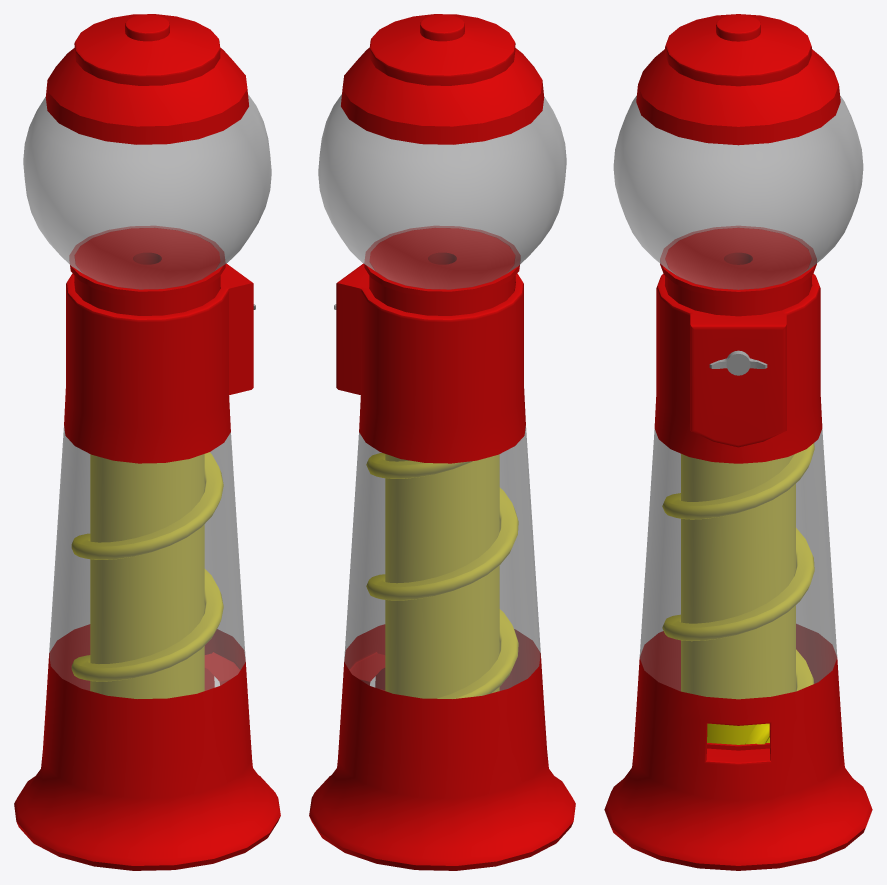
File: WW_GumballMachine_Env.fbx
3 views of the same model, side by side, from view 1: azimuth 30°, elevation 25°; view 2: azimuth 150°, elevation 25°; view 3: azimuth 270°, elevation 25° (orthographic).
Parts seen in each view (by area): view 1: GumballBase_GEO, GumBallTop_GEO, GumballHelixHolder_GEO, GumballmachineLid_GEO, GumballInnerHelix_GEO, GumballmachineBaselid_GEO; view 2: GumballBase_GEO, GumBallTop_GEO, GumballHelixHolder_GEO, GumballmachineLid_GEO, GumballmachineBaselid_GEO, GumballInnerHelix_GEO; view 3: GumballBase_GEO, GumBallTop_GEO, GumballHelixHolder_GEO, GumballmachineLid_GEO, GumballInnerHelix_GEO, GumballmachineBaselid_GEO, GumballTurner_GEO.
Boxes of the visible parts, left/top/right/bottom form: GumballBase_GEO: left=14, top=263, right=280, bottom=870; GumBallTop_GEO: left=23, top=94, right=271, bottom=315; GumballHelixHolder_GEO: left=90, top=454, right=204, bottom=698; GumballmachineLid_GEO: left=45, top=14, right=248, bottom=144; GumballInnerHelix_GEO: left=71, top=452, right=223, bottom=681; GumballmachineBaselid_GEO: left=74, top=228, right=219, bottom=289; GumballBase_GEO: left=309, top=263, right=575, bottom=870; GumBallTop_GEO: left=318, top=94, right=566, bottom=315; GumballHelixHolder_GEO: left=385, top=454, right=499, bottom=698; GumballmachineLid_GEO: left=341, top=14, right=544, bottom=144; GumballmachineBaselid_GEO: left=370, top=228, right=515, bottom=289; GumballInnerHelix_GEO: left=366, top=453, right=518, bottom=698; GumballBase_GEO: left=604, top=274, right=872, bottom=870; GumBallTop_GEO: left=613, top=95, right=863, bottom=316; GumballHelixHolder_GEO: left=681, top=454, right=795, bottom=744; GumballmachineLid_GEO: left=636, top=14, right=840, bottom=145; GumballInnerHelix_GEO: left=662, top=443, right=814, bottom=744; GumballmachineBaselid_GEO: left=665, top=228, right=811, bottom=289; GumballTurner_GEO: left=709, top=350, right=767, bottom=375.
Size of the model in its own units: 54.64 by 179 by 54.78.
